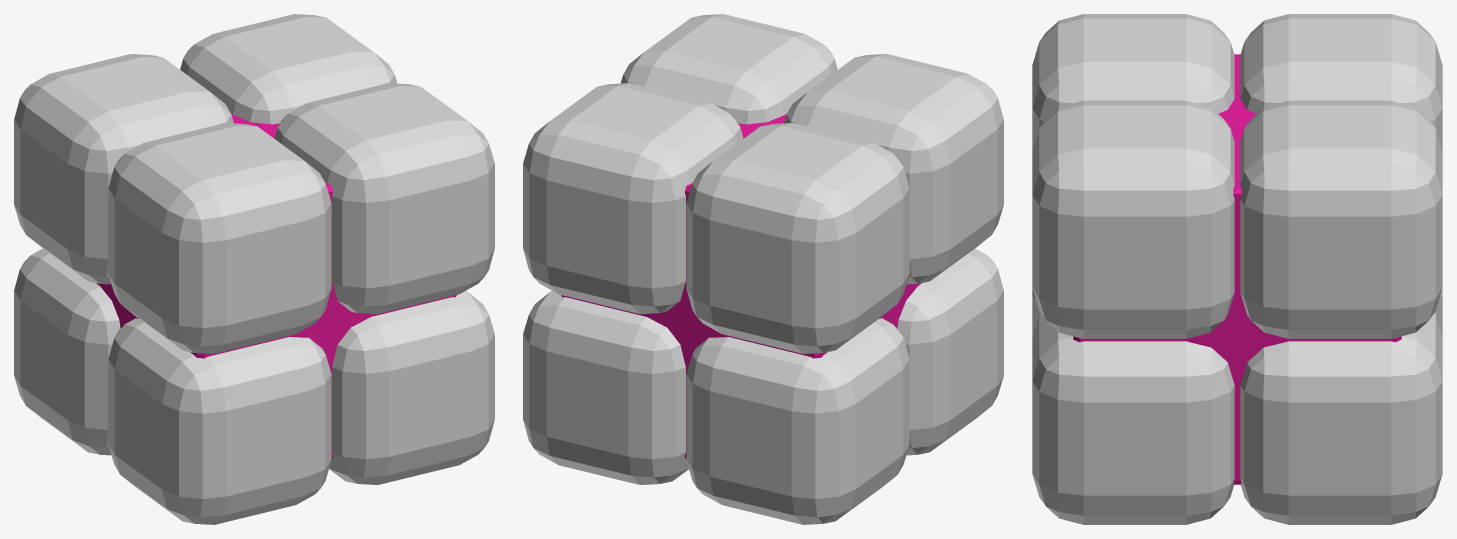
Rendered from MagicCube.fbx.
3 renders of one model, left to right at view 1: azimuth 30°, elevation 25°; view 2: azimuth 150°, elevation 25°; view 3: azimuth 270°, elevation 25°, orthographic. The views are drawn at different scales.
Visible parts, largest first — view 1: MagicCube; view 2: MagicCube; view 3: MagicCube.
Part boxes in pixels (x1,y1,x2,y2): MagicCube: (14, 14, 494, 524); MagicCube: (523, 14, 1003, 524); MagicCube: (1032, 14, 1442, 524).
Bounding box in the file's own units: 40 × 40 × 40.
